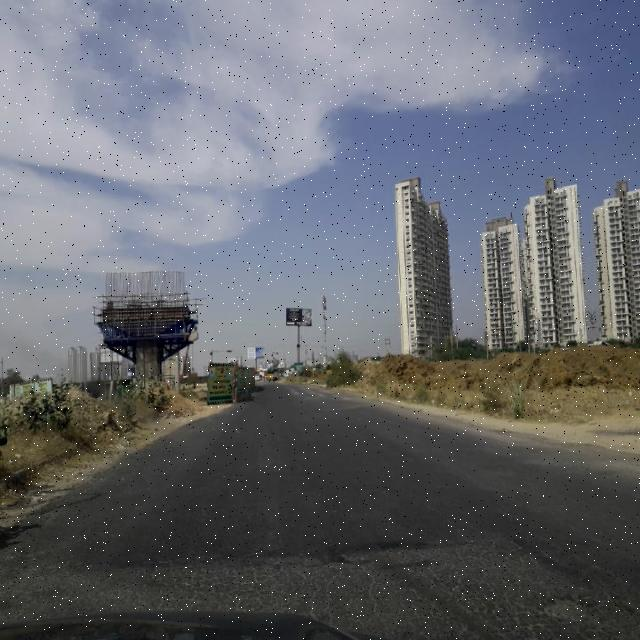D20: (363, 522, 640, 639), (1, 548, 354, 612)
D40: (540, 580, 602, 628)
